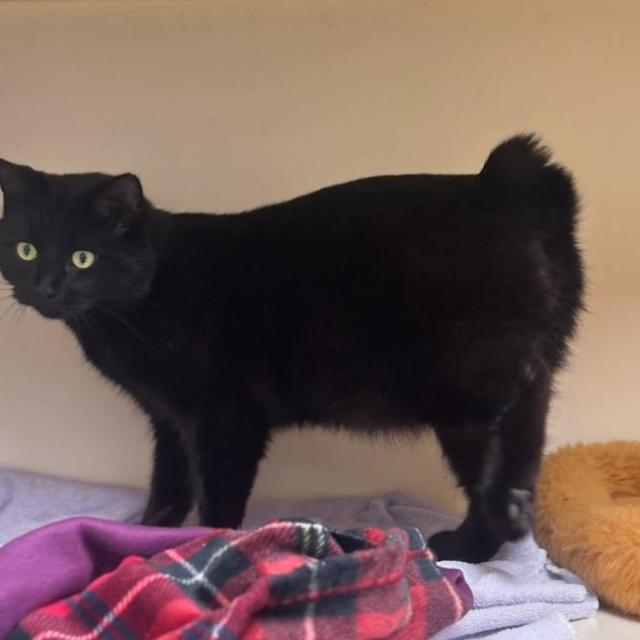American Bobtail: (0, 126, 592, 567)
